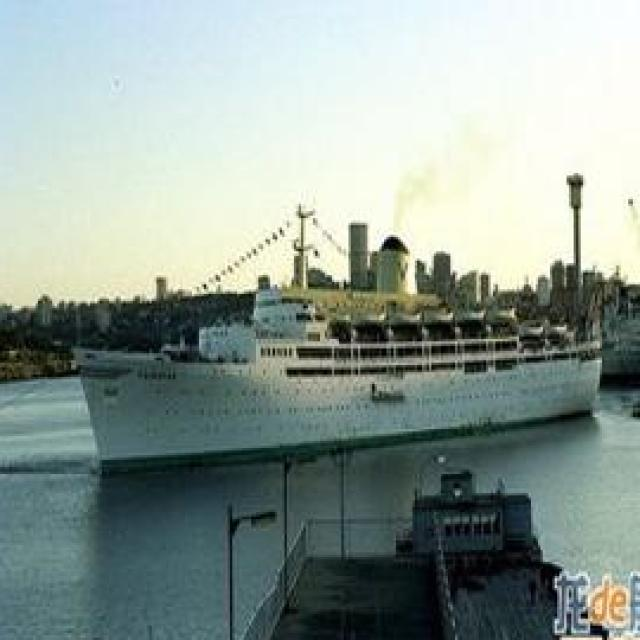cargoship: (46, 195, 629, 474)
